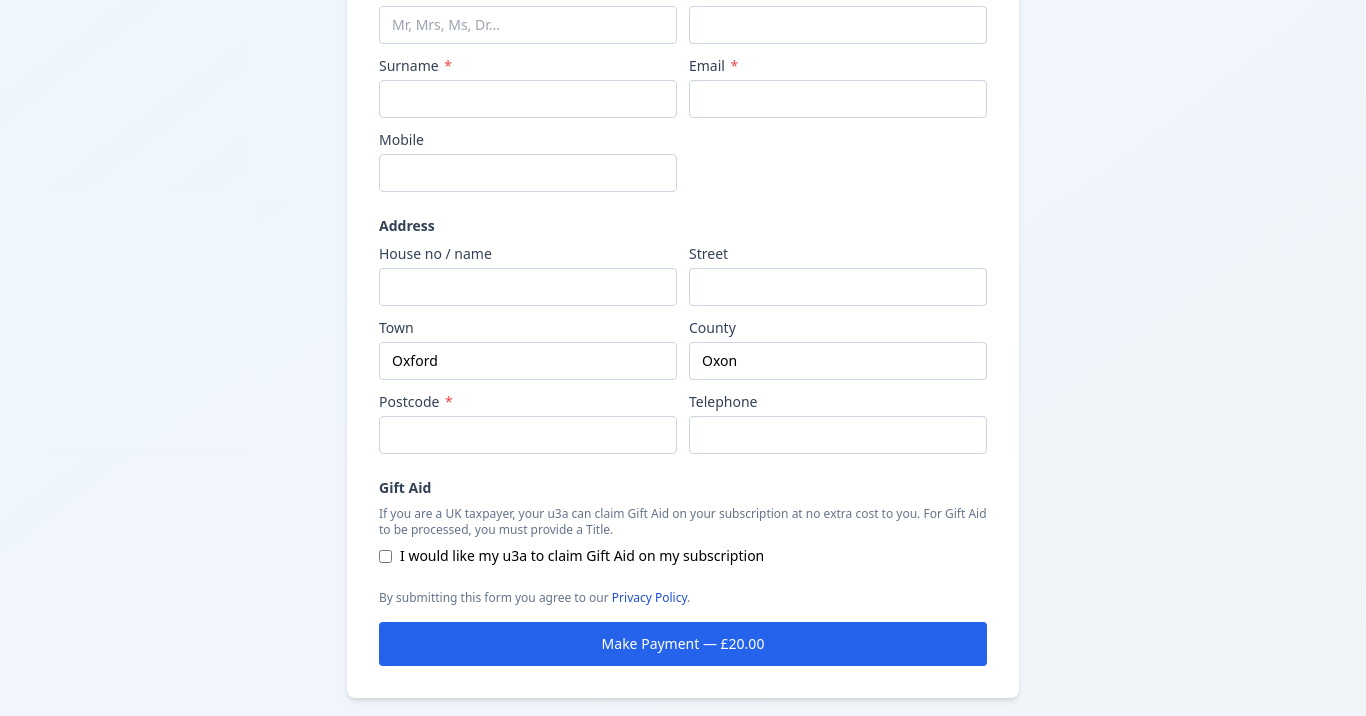
Test: JoinForm page › shows validation errors and does not submit when required fields are empty
(page scrolled)
Click the button "Make Payment — £20.00". click: (683, 644)
box: [379, 622, 987, 666]
(page scrolled)
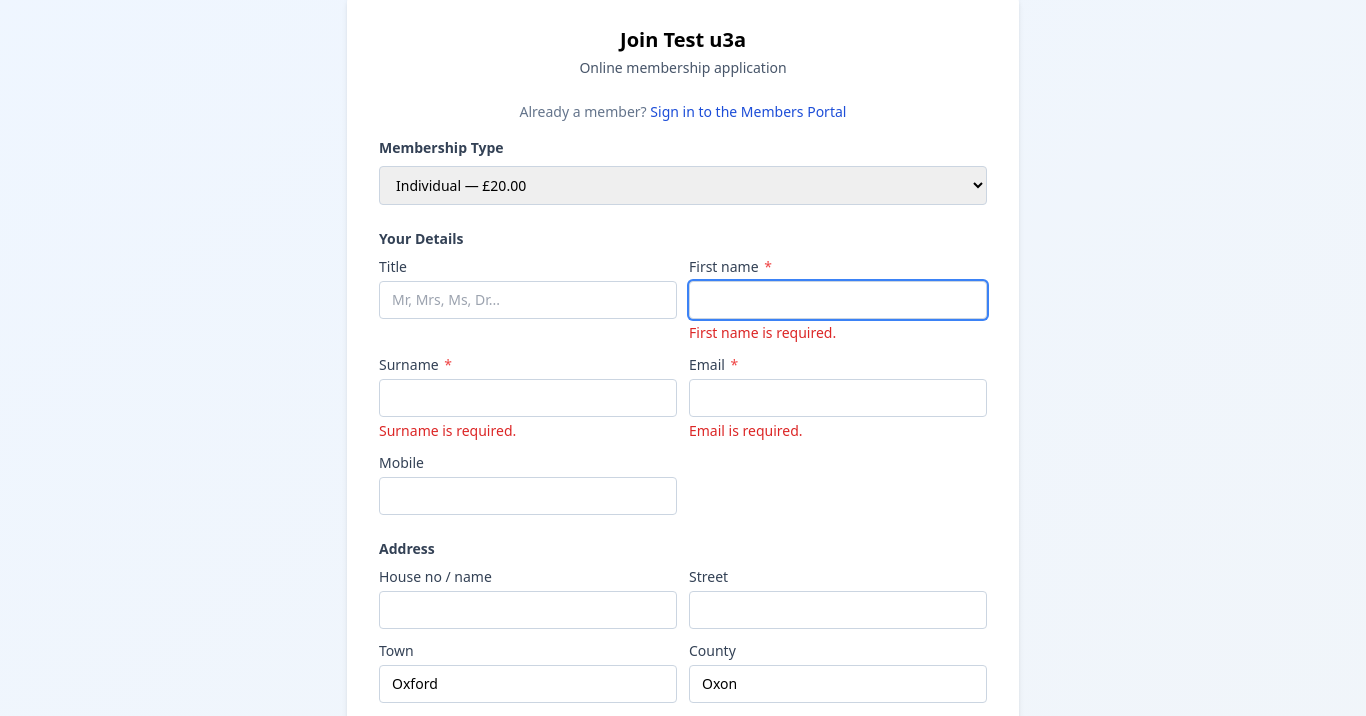
expect the text "First name is required." is shown: met, box [689, 323, 836, 342]
expect the text "Surname is required." is shown: met, box [379, 421, 516, 440]
expect the text "Email is required." is shown: met, box [689, 421, 803, 440]
